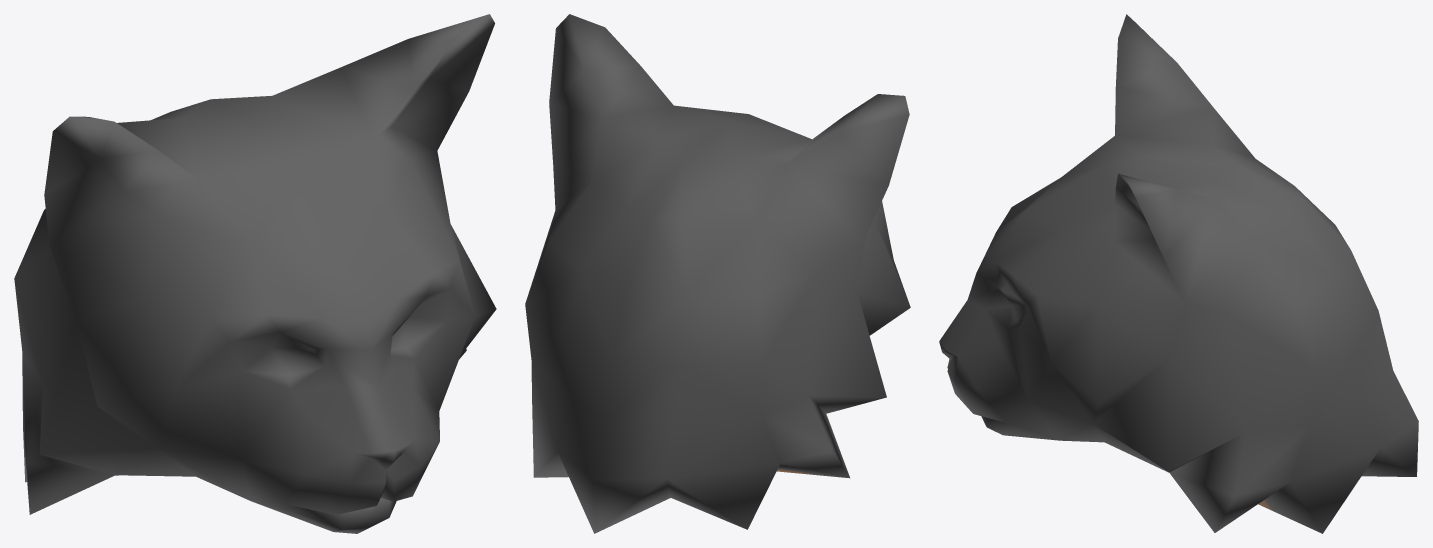
Rendered from KittyA.obj.
3 renders of one model, left to right at view 1: azimuth 30°, elevation 25°; view 2: azimuth 150°, elevation 25°; view 3: azimuth 270°, elevation 25°, orthographic. The views are drawn at different scales.
Visible parts, largest first — view 1: polySurface2; view 2: polySurface2; view 3: polySurface2.
Boxes of the visible parts, x1=… form: polySurface2: x1=14, y1=14, x2=496, y2=533; polySurface2: x1=525, y1=14, x2=910, y2=533; polySurface2: x1=939, y1=14, x2=1418, y2=533.
Size of the model in its own units: 8.37 by 8.55 by 9.68.
Materials: 1 (1 with a texture image).
